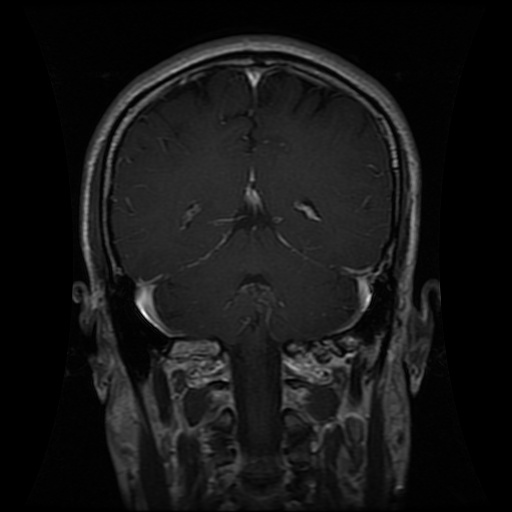glioma: (228, 272, 287, 334)
